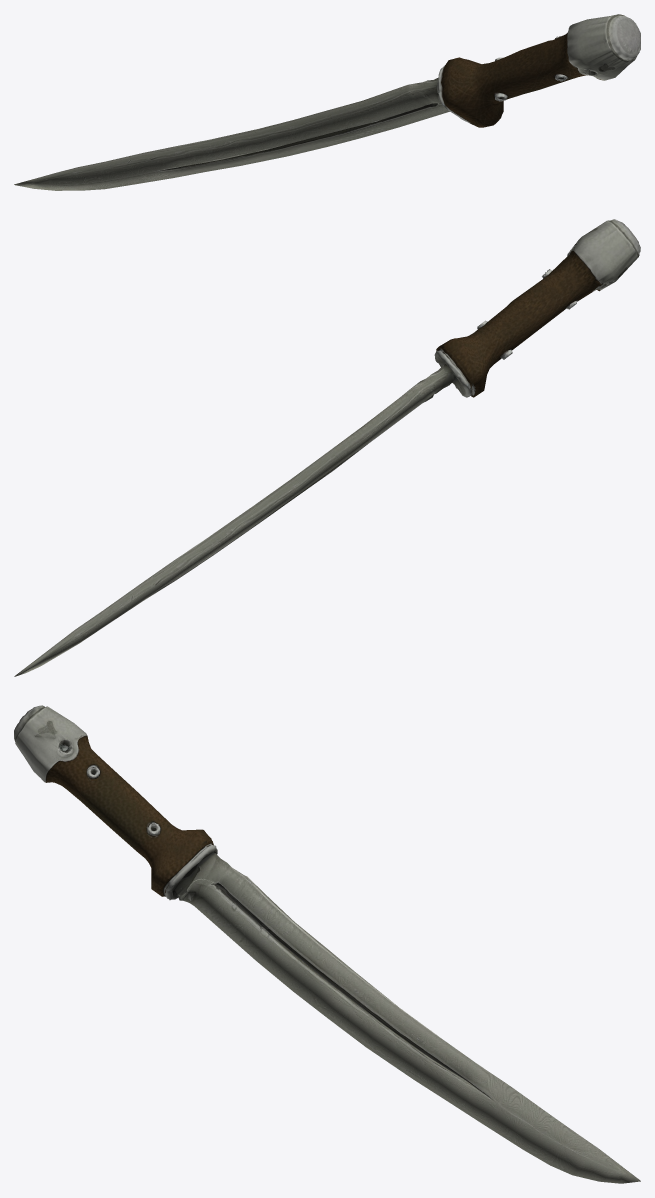
The model's file is kindjal.glb.
3 views of the same model, one above another, from view 1: azimuth 90°, elevation 25°; view 2: azimuth 150°, elevation 25°; view 3: azimuth 270°, elevation 25° (orthographic). The views are drawn at different scales.
Visible parts, largest first — view 1: world; view 2: world; view 3: world.
Part boxes in pixels (x1,y1,x2,y2): world: (14,14,640,190); world: (14,219,640,676); world: (14,705,640,1183).
Size of the model in its own units: 0.6191 by 0.5684 by 0.998.
Materials: 1 (1 with a texture image).
